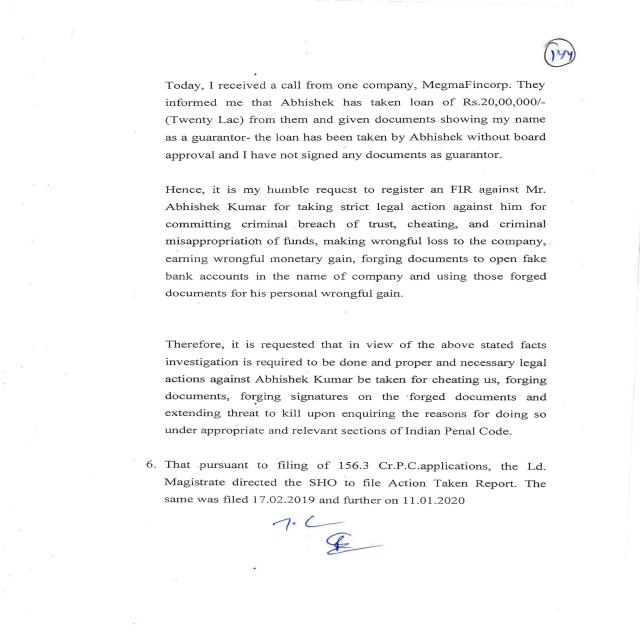page-number: (409, 3, 637, 79)
